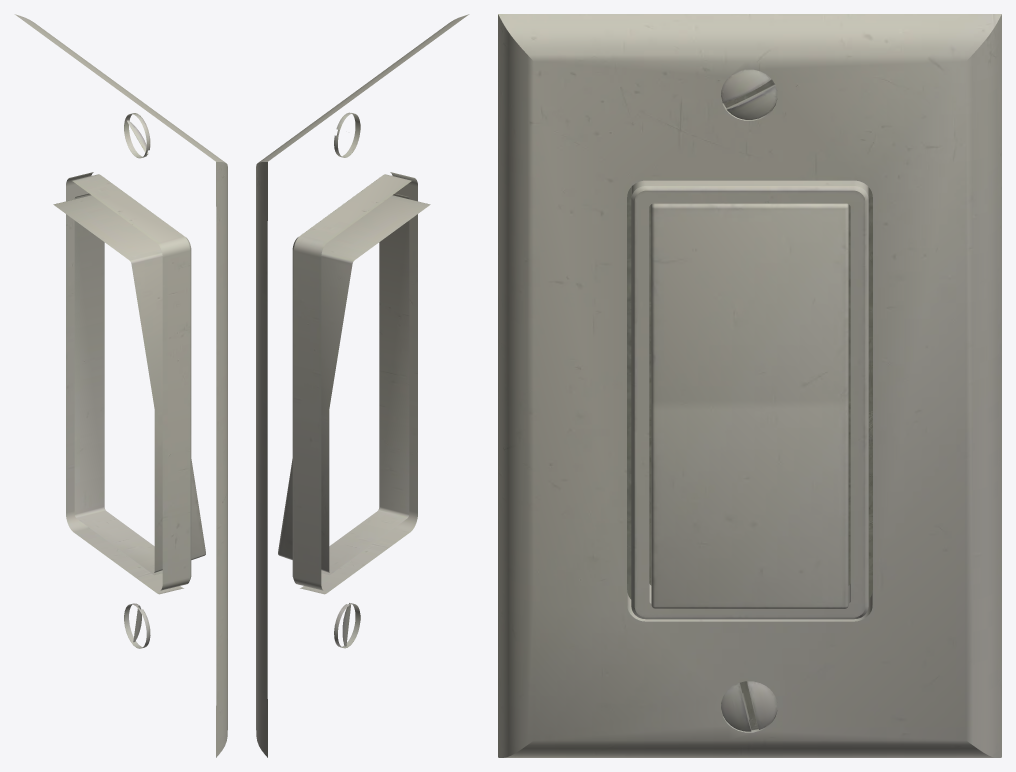
Rendered from switch_avot.glb.
3 views of the same model, side by side, from view 1: azimuth 30°, elevation 25°; view 2: azimuth 150°, elevation 25°; view 3: azimuth 270°, elevation 25° (orthographic). The views are drawn at different scales.
Parts seen in each view (by area): view 1: CoverPlate.001_lightswitch_0; view 2: CoverPlate.001_lightswitch_0; view 3: CoverPlate.001_lightswitch_0.
Part boxes in pixels (box(x1,y1,x2,y2)): CoverPlate.001_lightswitch_0: box(14, 14, 227, 757); CoverPlate.001_lightswitch_0: box(256, 14, 469, 757); CoverPlate.001_lightswitch_0: box(498, 14, 1001, 757).
Size of the model in its own units: 0.0153 by 0.114 by 0.07.
1 material, 1 textured.
